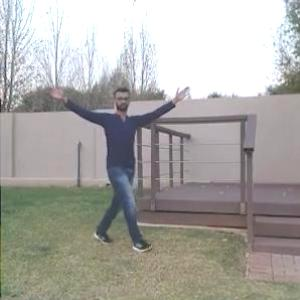takeoff: (46, 90, 182, 250)
